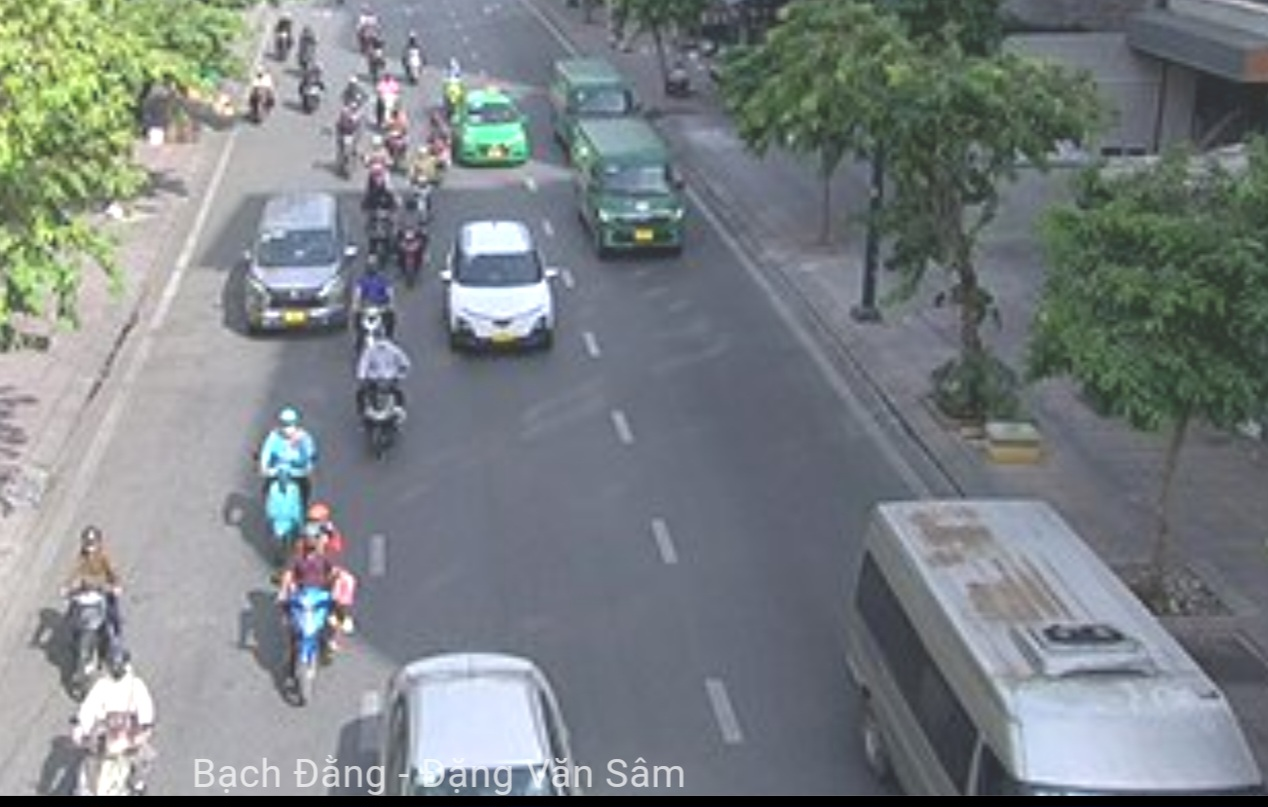car: (843, 499, 1264, 807), (438, 219, 559, 360), (243, 196, 354, 336), (566, 135, 696, 254), (447, 94, 534, 167)
